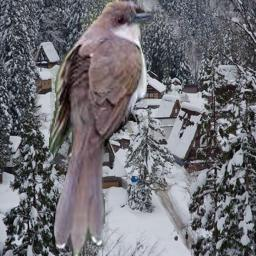Cuckoo: (49, 0, 156, 256)
